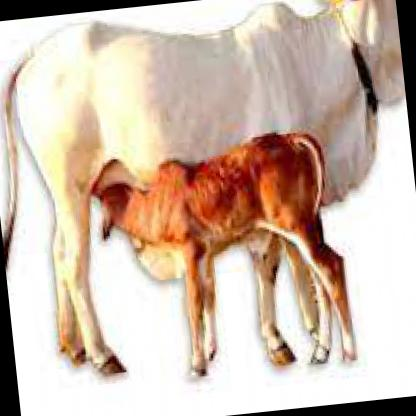Cow: (98, 140, 388, 408), (11, 0, 407, 166)
